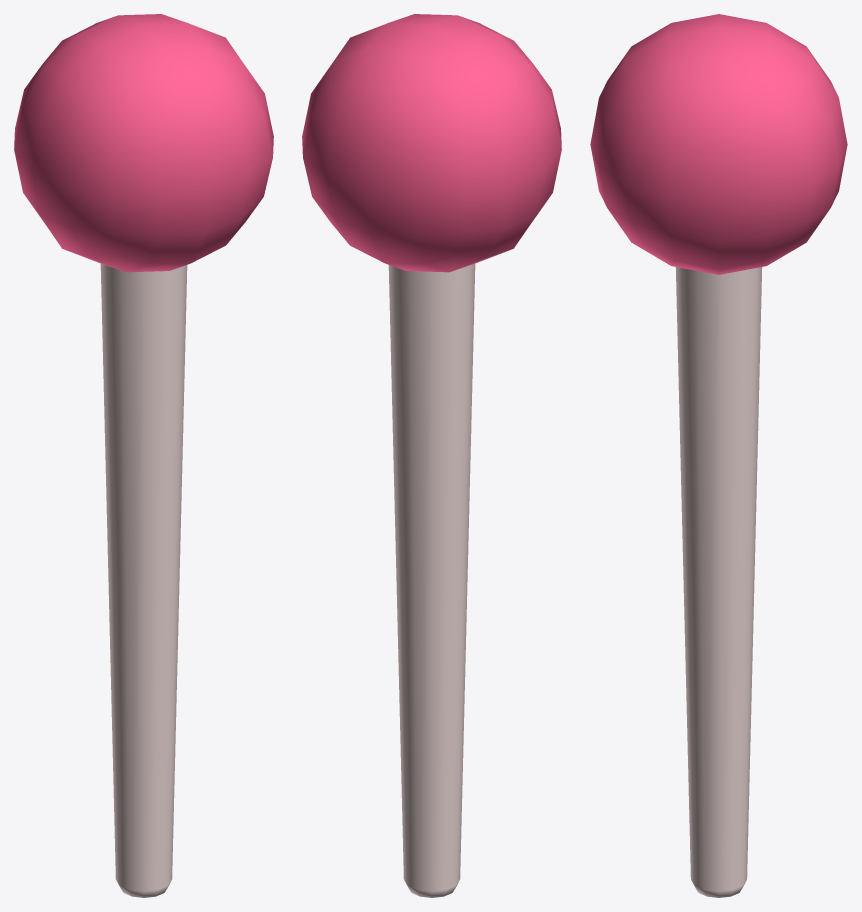
File: Public_19_Needle_1.glb
3 views of the same model, side by side, from view 1: azimuth 30°, elevation 25°; view 2: azimuth 150°, elevation 25°; view 3: azimuth 270°, elevation 25° (orthographic).
Visible parts, largest first — view 1: Public_19_Needle_1; view 2: Public_19_Needle_1; view 3: Public_19_Needle_1.
Boxes of the visible parts, bbox=[...] form: Public_19_Needle_1: bbox=[14, 14, 273, 897]; Public_19_Needle_1: bbox=[302, 14, 561, 897]; Public_19_Needle_1: bbox=[590, 14, 847, 897].
Size of the model in its own units: 0.1604 by 0.5941 by 0.1604.
1 material, 1 textured.
